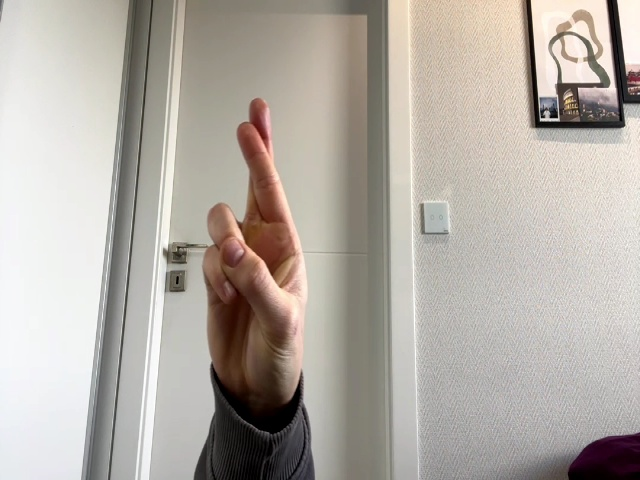R: (202, 98, 308, 409)
